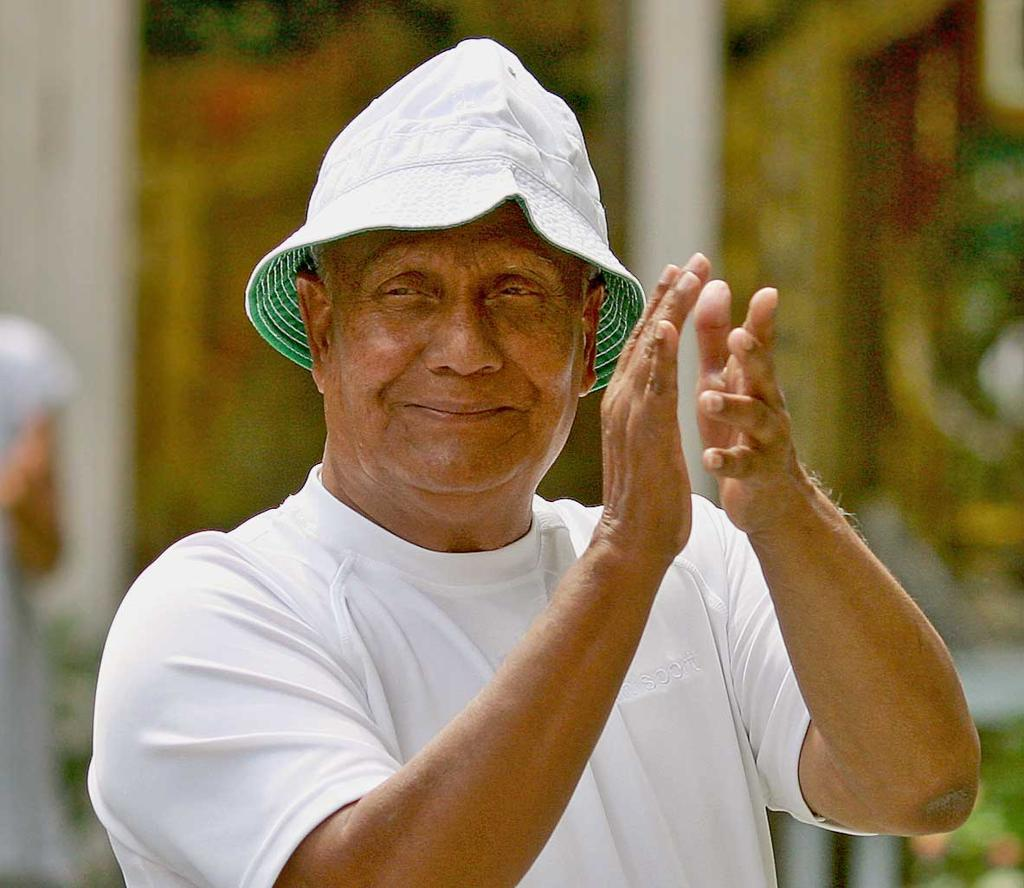face: (345, 183, 581, 489)
